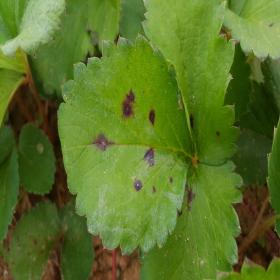Leaf Spot: (57, 33, 195, 257), (141, 0, 242, 166), (137, 161, 244, 279), (7, 200, 63, 279), (221, 0, 279, 63)
